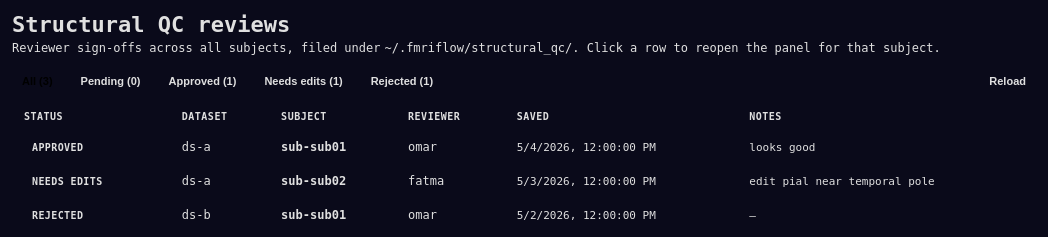
it: <QCReviews /> › filters rows by status when a chip is clicked
Expected: the text "sub-sub02" is shown, x1=269 y1=164 x2=396 y2=198
Step 1. Click the button "Approved (1)" → click(202, 81), box x1=158 y1=71 x2=246 y2=91
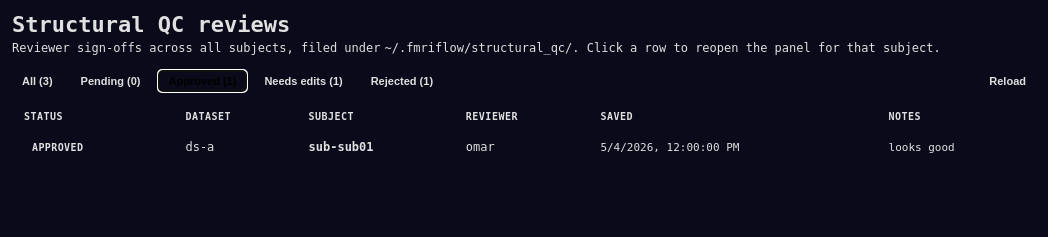
Now the text "sub-sub02" is gone
